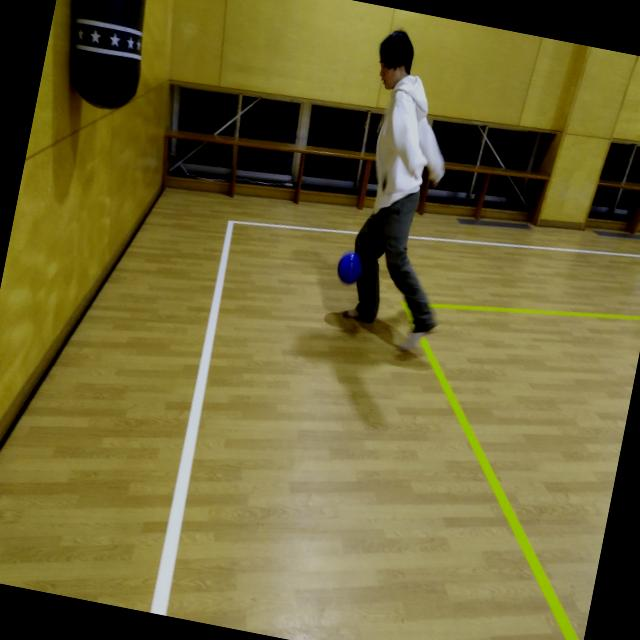blue_ball: (336, 248, 366, 286)
